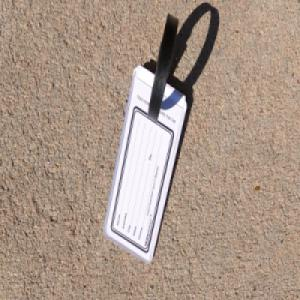LuggageTag: (102, 12, 187, 266)
